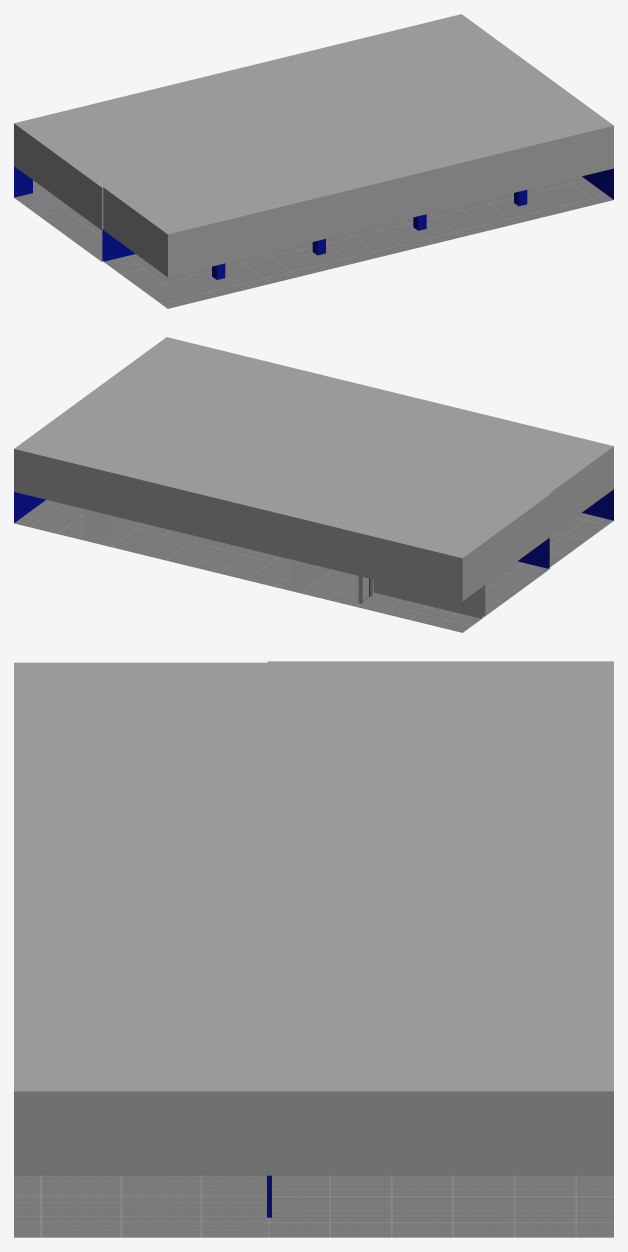
File: TestAreaNew.fbx
3 views of the same model, one above another, from view 1: azimuth 30°, elevation 25°; view 2: azimuth 150°, elevation 25°; view 3: azimuth 270°, elevation 25° (orthographic). The views are drawn at different scales.
Parts seen in each view (by area): view 1: polySurface4, pCube88, polySurface3, polySurface6; view 2: pCube88, polySurface4, polySurface6, pCube89, pCube90, polySurface3; view 3: pCube88, polySurface4.
Boxes of the visible parts, left/top/right/bottom form: polySurface4: left=103, top=78, right=613, bottom=308; pCube88: left=14, top=14, right=549, bottom=261; polySurface3: left=102, top=187, right=135, bottom=261; polySurface6: left=33, top=180, right=102, bottom=213; pCube88: left=14, top=384, right=550, bottom=632; polySurface4: left=102, top=337, right=613, bottom=567; polySurface6: left=373, top=579, right=485, bottom=618; pCube89: left=85, top=509, right=123, bottom=541; pCube90: left=291, top=559, right=329, bottom=592; polySurface3: left=518, top=538, right=549, bottom=568; pCube88: left=267, top=661, right=613, bottom=1237; polySurface4: left=14, top=662, right=267, bottom=1237.
Size of the model in its own units: 3668 by 586 by 2163.
Materials: 4 (1 with a texture image).
